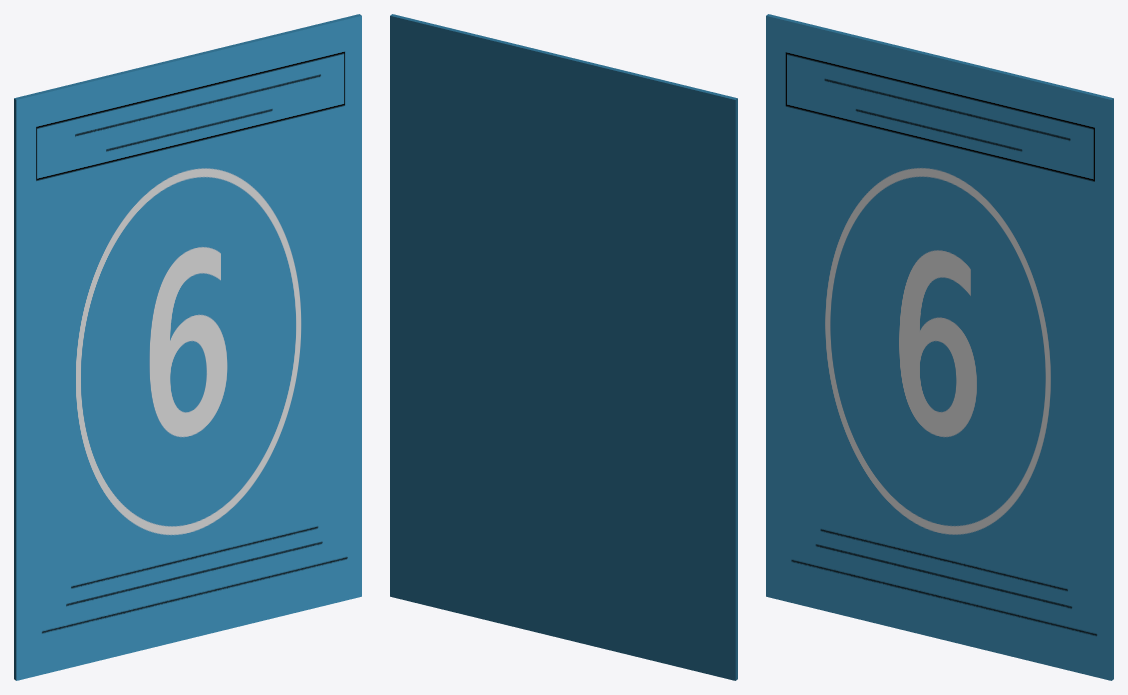
Rendered from BluePoster.glb.
3 renders of one model, left to right at view 1: azimuth 30°, elevation 25°; view 2: azimuth 150°, elevation 25°; view 3: azimuth 330°, elevation 25°, orthographic.
Parts seen in each view (by area): view 1: Blue_Poster; view 2: Blue_Poster; view 3: Blue_Poster.
Boxes of the visible parts, left/top/right/bottom form: Blue_Poster: left=14, top=14, right=361, bottom=680; Blue_Poster: left=390, top=14, right=737, bottom=680; Blue_Poster: left=766, top=14, right=1113, bottom=680.
Size of the model in its own units: 2.37 by 3.81 by 0.0288.
Materials: 1 (1 with a texture image).
